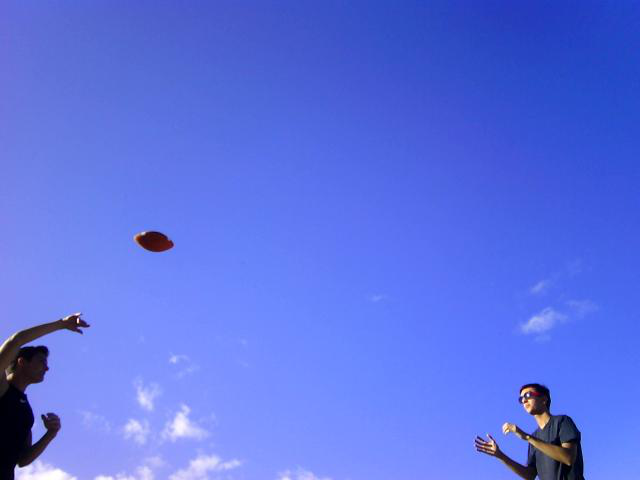football: (130, 225, 178, 257)
